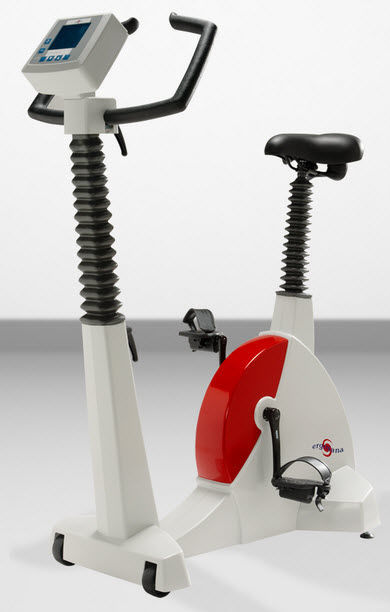gym_bike: (12, 13, 374, 586)
